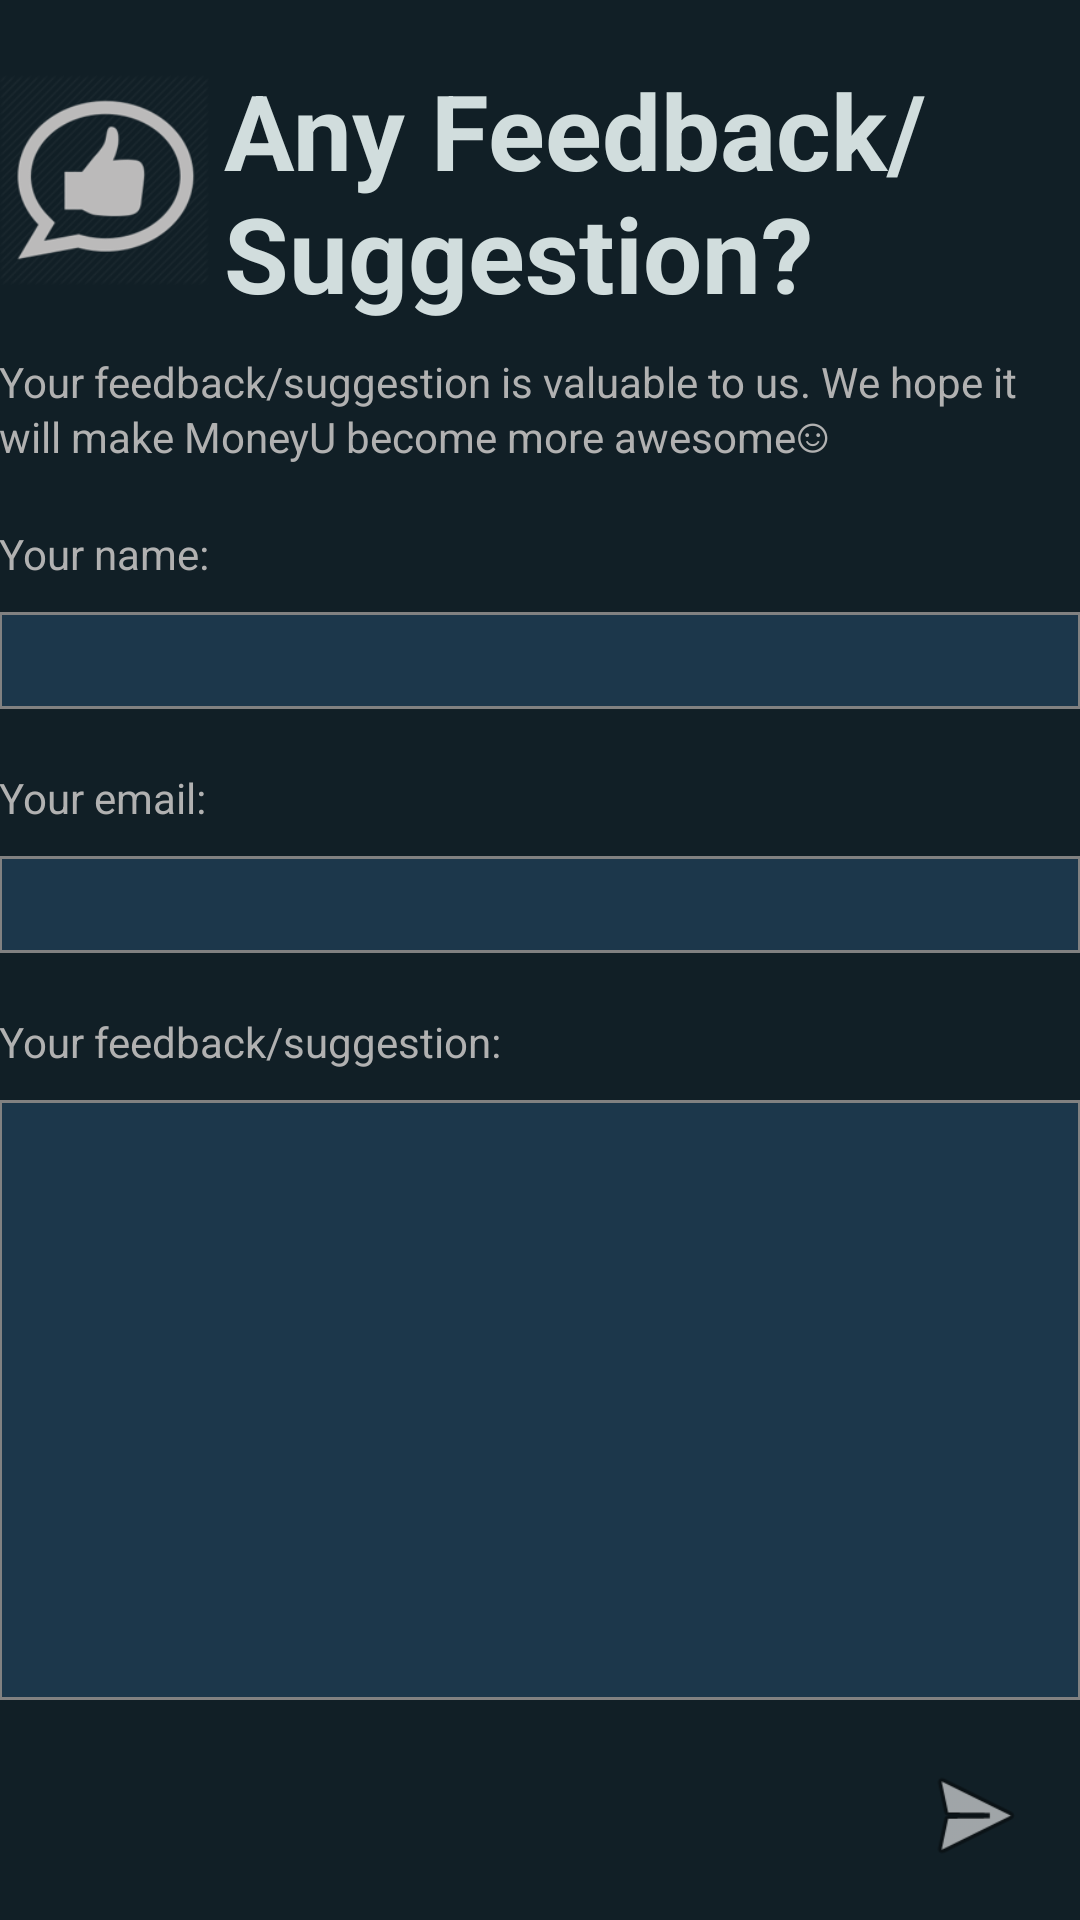

Locate icon controls on the screen. Image size 1080×1920, boxes as region(x1, y1, x2, y2).
feedbackicon: region(17, 100, 194, 260)
send: region(941, 1781, 1011, 1850)
